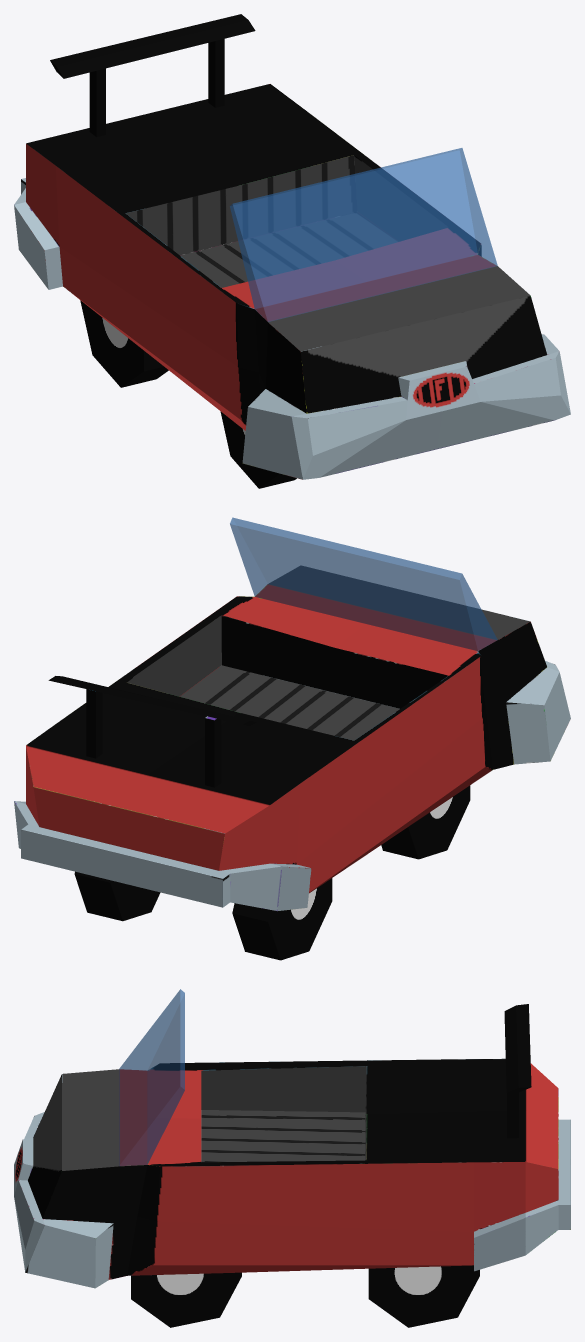
File: convertcar 1 2.fbx
3 views of the same model, one above another, from view 1: azimuth 30°, elevation 25°; view 2: azimuth 150°, elevation 25°; view 3: azimuth 270°, elevation 25° (orthographic). The views are drawn at different scales.
Visible parts, largest first — view 1: Cube.001, Cube.002, Cylinder.003; view 2: Cube.001, Cube.002, Cylinder.003; view 3: Cube.001, Cylinder.003, Cube.002.
Boxes of the visible parts, x1=… form: Cube.001: x1=14, y1=14, x2=570, y2=479; Cube.002: x1=230, y1=148, x2=497, y2=321; Cylinder.003: x1=80, y1=300, x2=296, y2=488; Cube.001: x1=14, y1=566, x2=570, y2=911; Cube.002: x1=230, y1=517, x2=497, y2=650; Cylinder.003: x1=74, y1=785, x2=470, y2=960; Cube.001: x1=14, y1=1004, x2=570, y2=1288; Cylinder.003: x1=131, y1=1265, x2=479, y2=1327; Cube.002: x1=119, y1=989, x2=184, y2=1165.
Size of the model in its own units: 455 by 404 by 822.
